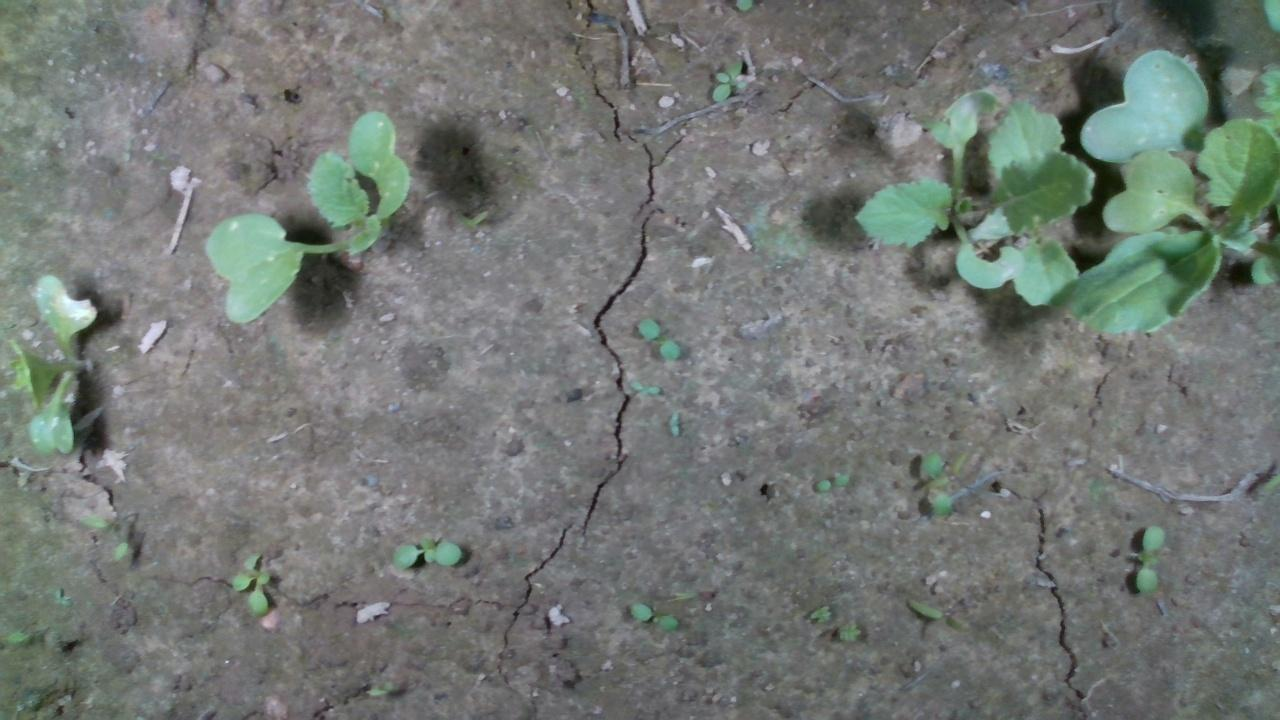weed: (225, 550, 271, 616), (390, 533, 461, 570), (1132, 522, 1166, 593), (905, 596, 970, 633), (635, 315, 682, 361), (627, 599, 679, 631), (710, 53, 743, 102), (812, 471, 850, 492), (627, 378, 661, 398), (51, 587, 73, 610), (665, 407, 680, 436)
